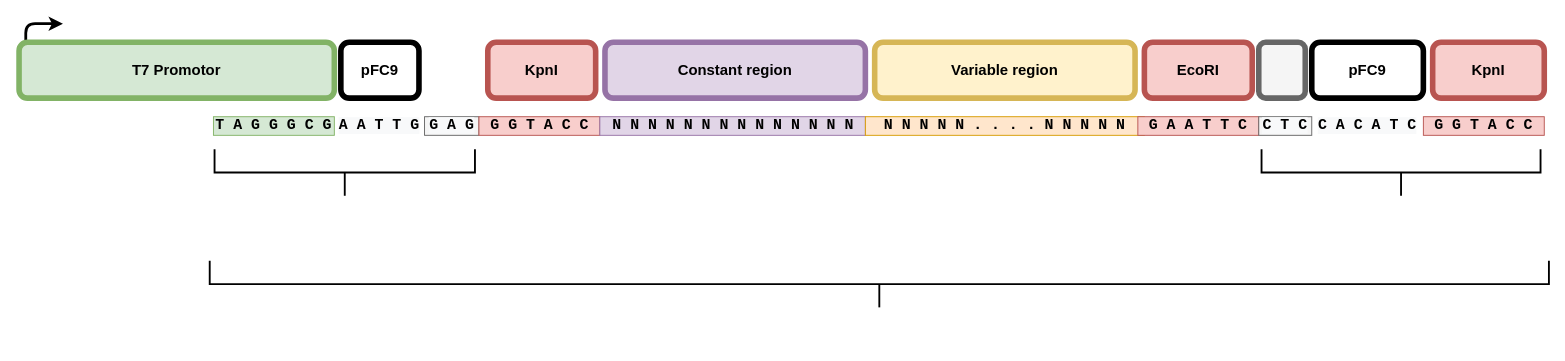
This 1565x361 diagram has some shape labels left out. The centre of each missing label's shape, as x and y in pixels:
3' homology arm: the point at 1400,172
5' homology arm: the point at 344,172
Complete insert: the point at 878,283
Eco53kI cut: the point at 1282,69
